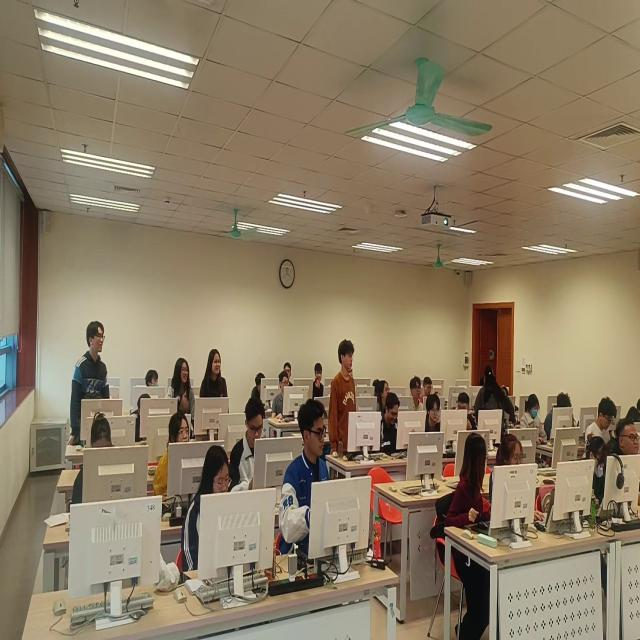raise_head: (281, 398, 329, 566), (153, 410, 191, 503), (606, 414, 640, 516), (313, 358, 325, 401), (377, 376, 391, 408), (409, 376, 422, 408), (147, 368, 162, 391), (283, 360, 293, 381)
stand: (68, 319, 118, 445), (329, 337, 361, 461), (168, 353, 197, 436), (201, 344, 232, 421), (476, 365, 508, 435)
using_computer: (180, 442, 235, 579), (491, 434, 551, 532), (74, 413, 118, 509), (232, 396, 267, 493), (582, 433, 608, 520), (585, 394, 619, 451), (545, 390, 576, 444), (520, 391, 548, 449), (381, 392, 401, 455), (130, 393, 153, 442), (273, 372, 294, 420), (424, 390, 446, 435), (457, 391, 473, 432), (250, 371, 267, 400), (422, 372, 436, 398)
